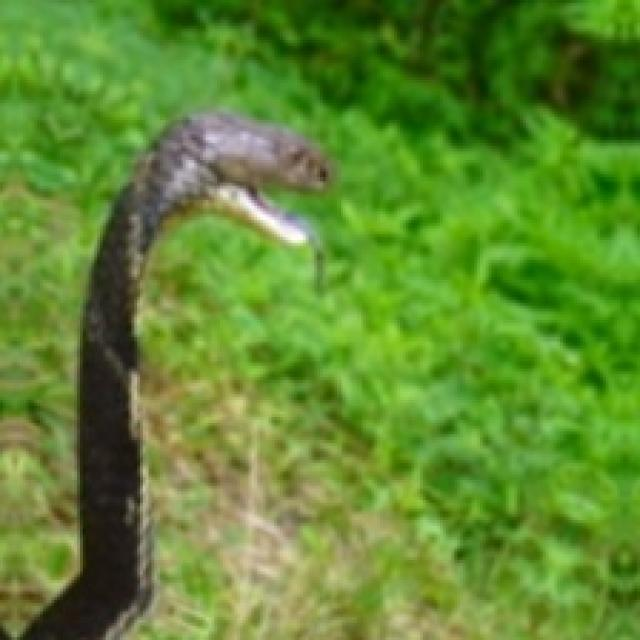king cobra: (20, 111, 329, 637)
